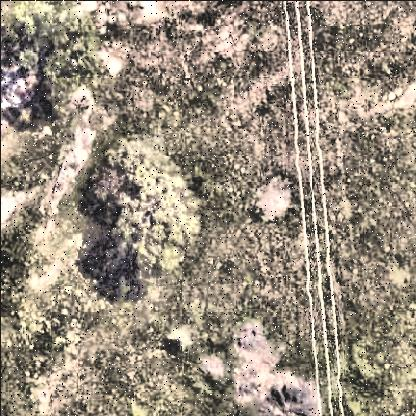tree-top: (82, 138, 209, 276), (2, 2, 107, 104)
